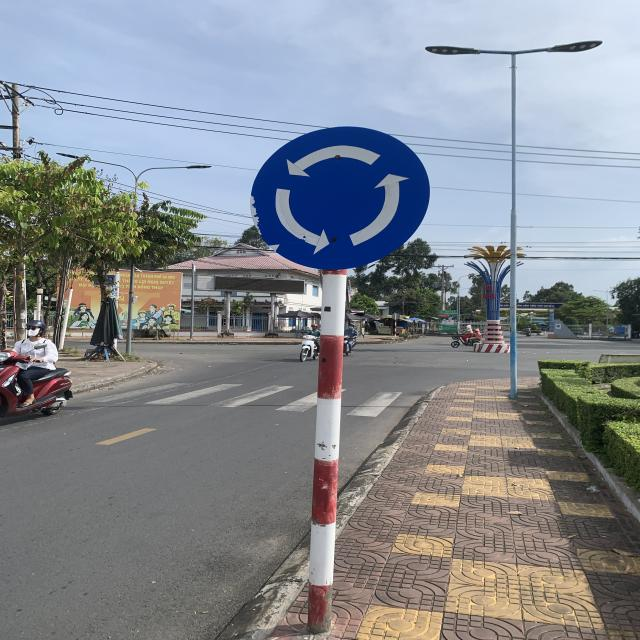Xe_Bus: (249, 123, 432, 270)
